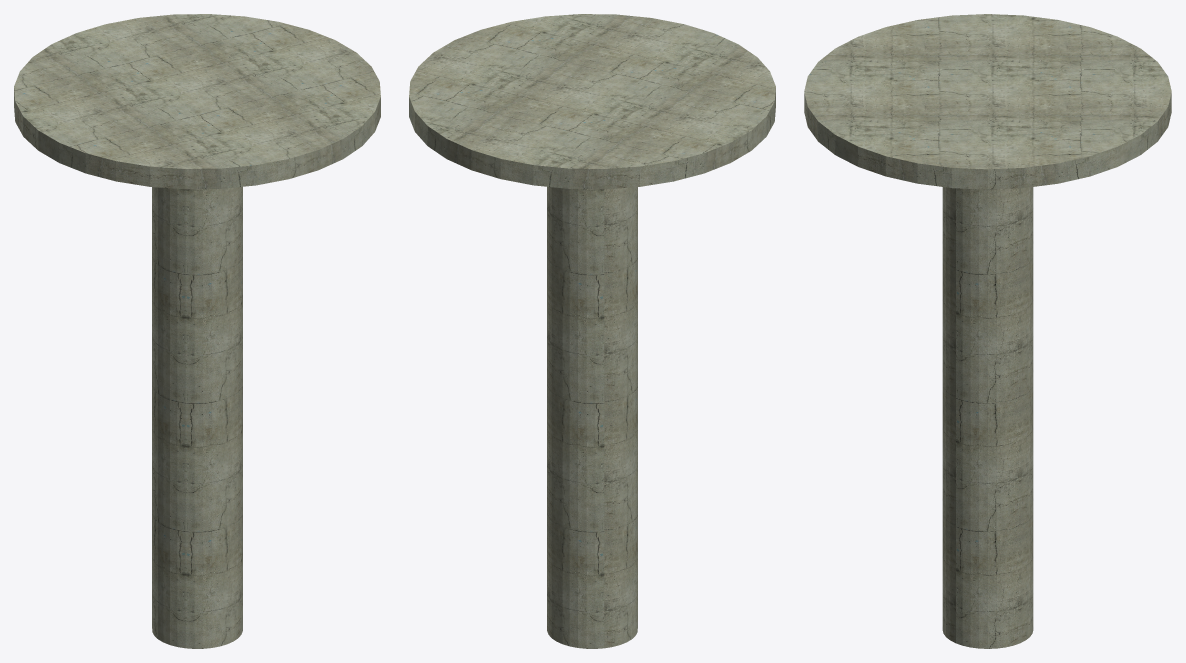
Rendered from spinney.obj.
3 views of the same model, side by side, from view 1: azimuth 30°, elevation 25°; view 2: azimuth 150°, elevation 25°; view 3: azimuth 270°, elevation 25° (orthographic).
Visible parts, largest first — view 1: spinney_Cylinder; view 2: spinney_Cylinder; view 3: spinney_Cylinder.
Boxes of the visible parts, x1,y1,x2,y2 form: spinney_Cylinder: (14,14,380,648); spinney_Cylinder: (409,14,775,648); spinney_Cylinder: (804,14,1171,648).
Size of the model in its own units: 5.18 by 8.38 by 5.18.
Materials: 1 (1 with a texture image).
